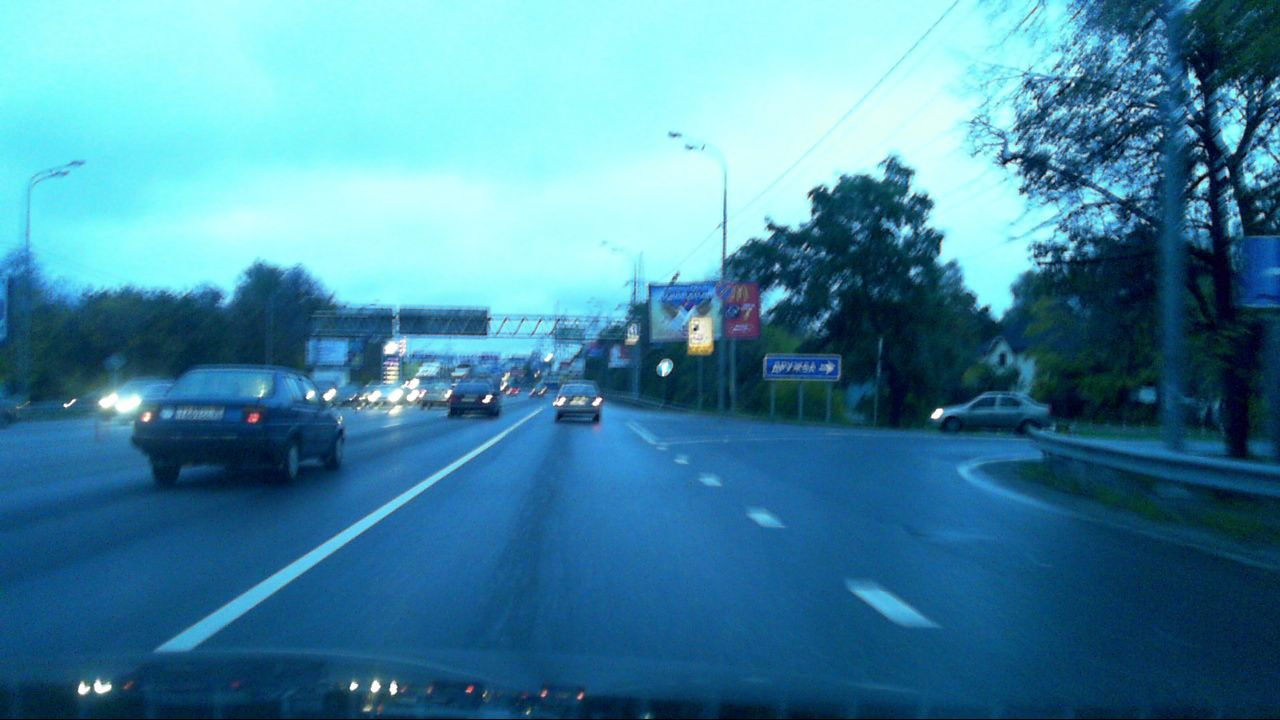No Parking: (713, 282, 733, 301)
